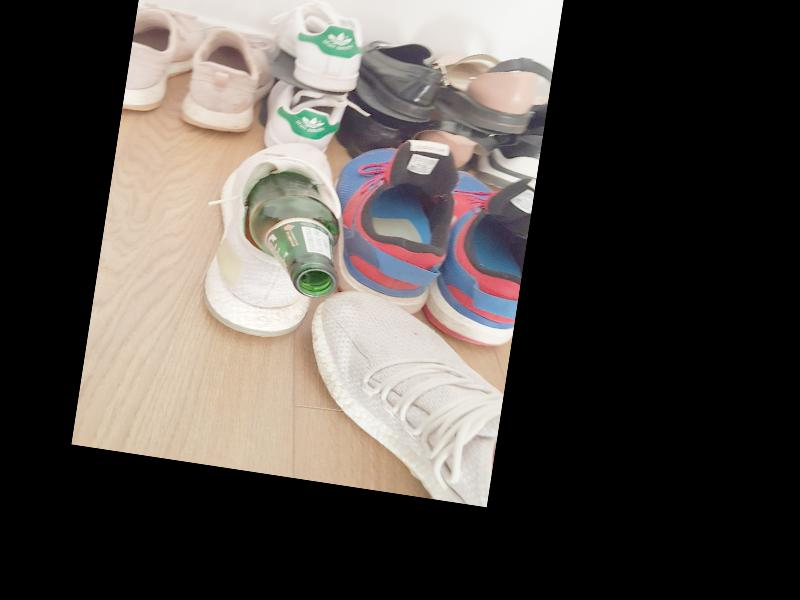Beer: (236, 168, 350, 299)
